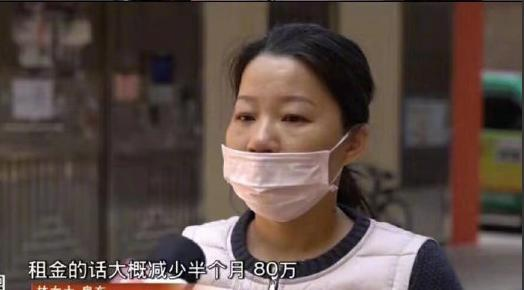WRONG: (227, 84, 336, 218)
